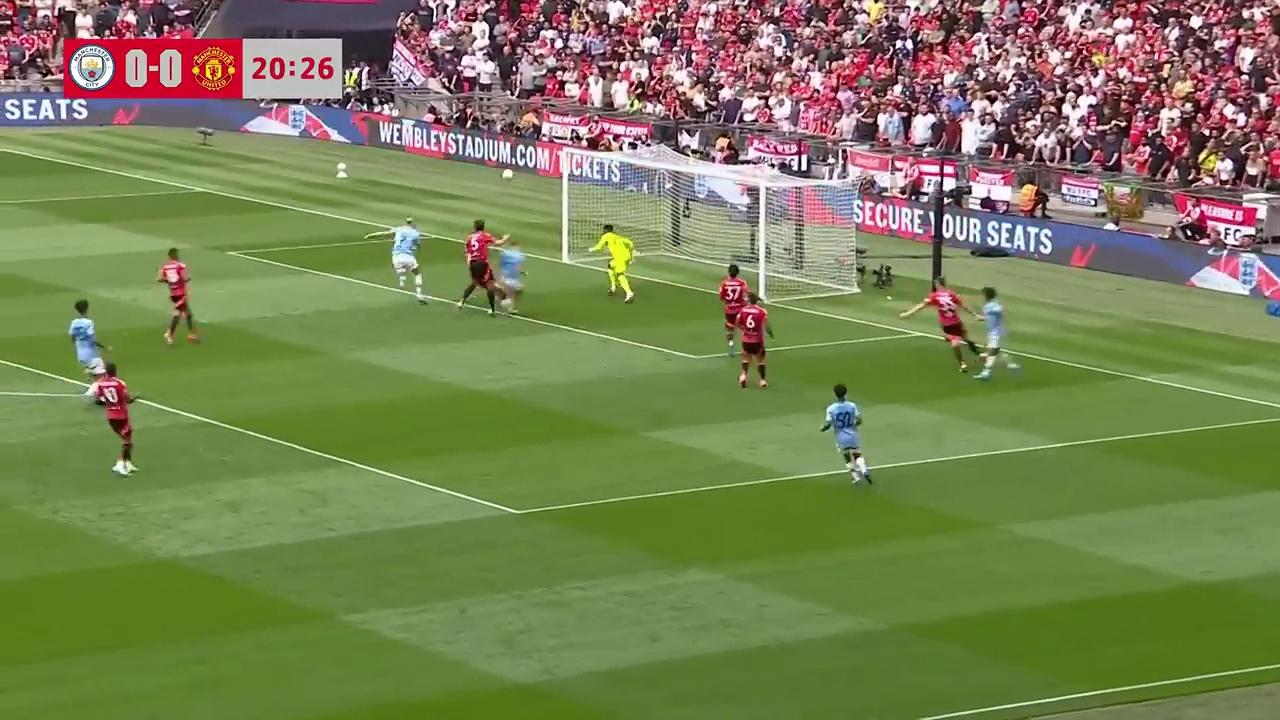ball: (499, 294, 513, 310)
player: (90, 360, 138, 476), (820, 383, 874, 484), (973, 290, 1021, 380), (156, 247, 200, 345), (457, 220, 503, 312), (925, 283, 975, 365), (67, 300, 108, 393), (736, 289, 771, 387), (593, 224, 635, 302), (488, 235, 528, 316), (390, 218, 424, 301), (718, 266, 749, 355)
